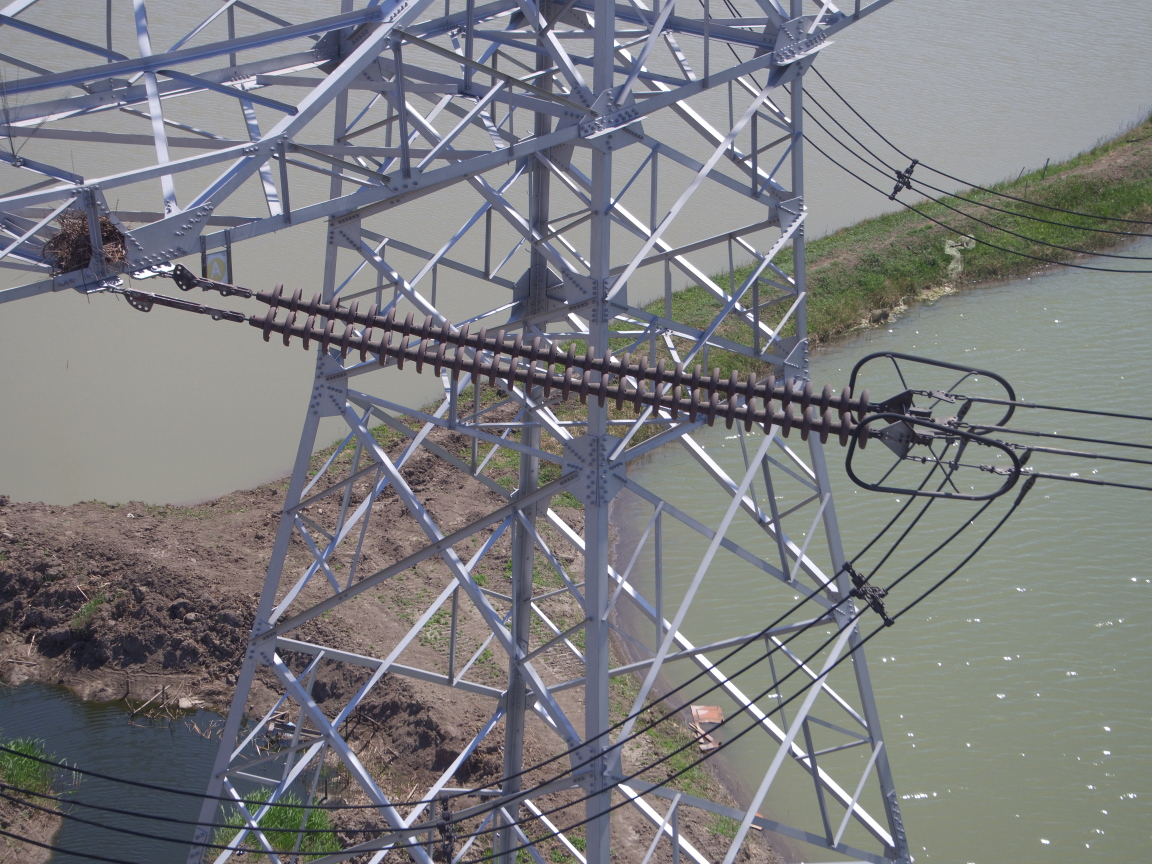insulator: (225, 276, 894, 453)
